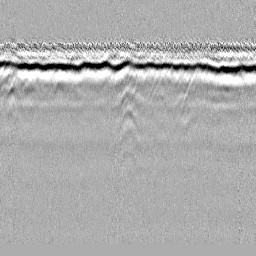cavity: (118, 104, 140, 134)
